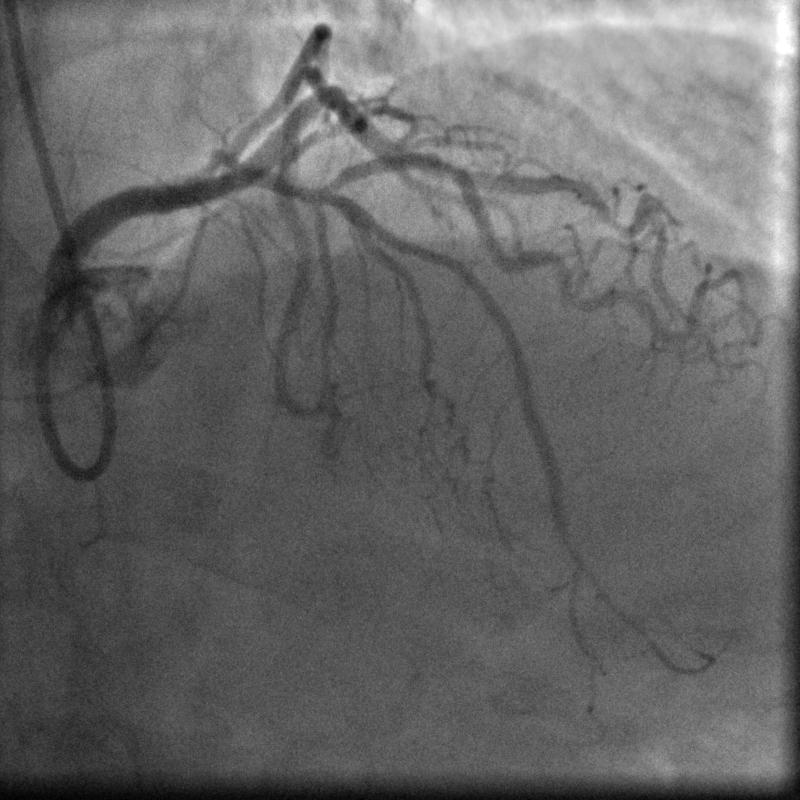Stenosis: (421, 145, 471, 191)
